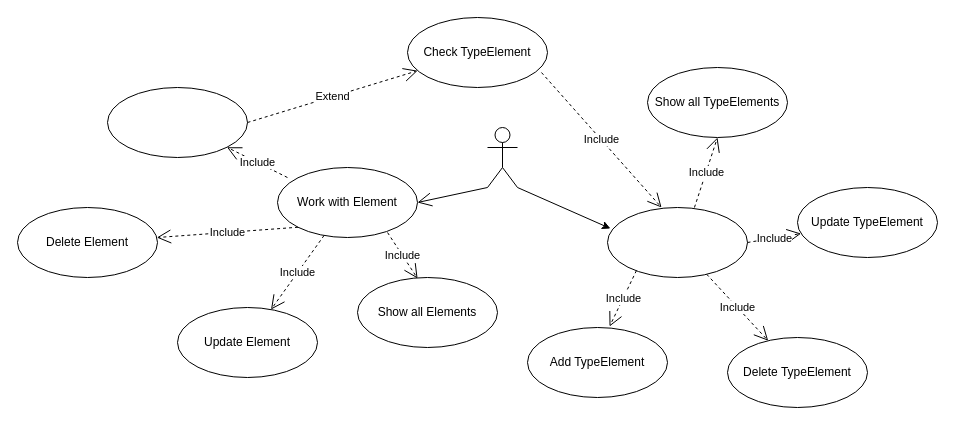
The diagram is 955 pixels wide and 425 high, and some of its shapes have lost their labels. Each missing label, with the box of its shape:
Add Element: (106, 86, 248, 158)
User: (486, 126, 518, 188)
Work with TypeElements: (606, 206, 748, 278)
